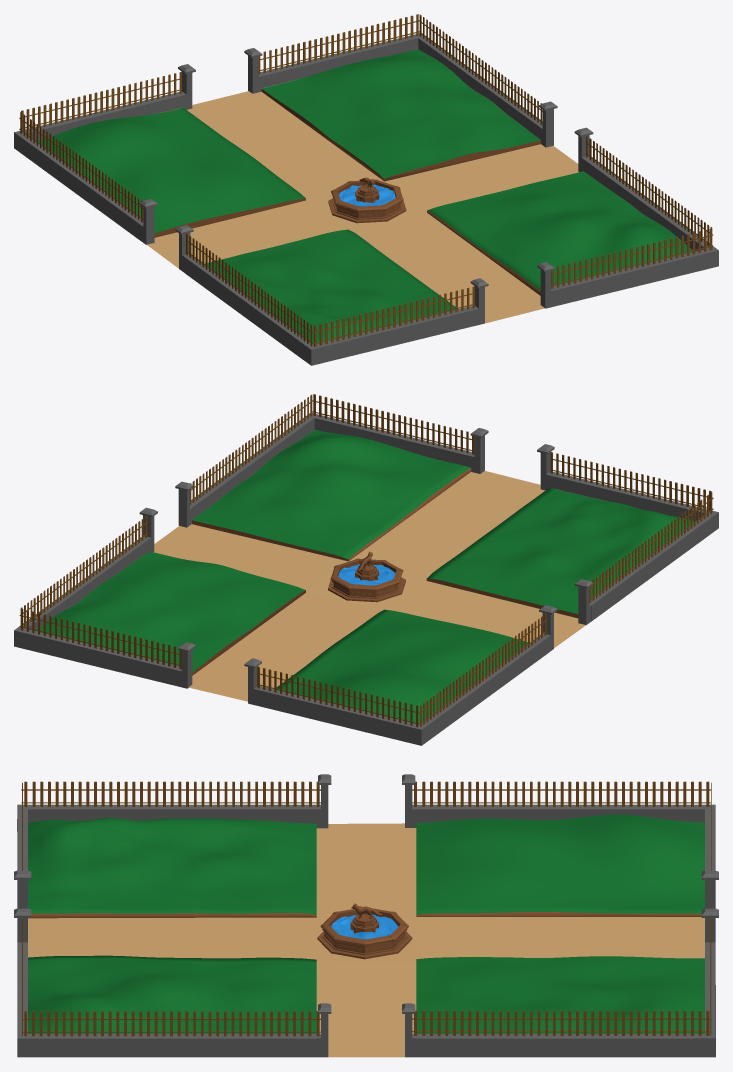
File: Parque.fbx
3 views of the same model, one above another, from view 1: azimuth 30°, elevation 25°; view 2: azimuth 150°, elevation 25°; view 3: azimuth 270°, elevation 25° (orthographic). The views are drawn at different scales.
Parts seen in each view (by area): view 1: terriccio, terriccio.001, MURO, prova.004, prova.003, prova2.004, prova.002, prova2, prova, prova2.003, prova2.002, fontana base parte superiore (+2 smaller); view 2: terriccio, terriccio.001, MURO, prova2, prova.004, prova.002, prova2.004, prova2.002, prova, prova2.003, prova.003, fontana base parte superiore (+2 smaller); view 3: terriccio, terriccio.001, MURO, prova2.002, prova2.004, prova2.003, prova2, fontana base parte superiore, fontana base, acqua.
Part boxes in pixels (bbox=[...]): terriccio: bbox=[38, 49, 692, 343]; terriccio.001: bbox=[147, 80, 578, 325]; MURO: bbox=[14, 33, 718, 365]; prova.004: bbox=[258, 14, 418, 74]; prova.003: bbox=[313, 286, 475, 346]; prova2.004: bbox=[185, 233, 313, 346]; prova.002: bbox=[551, 228, 712, 288]; prova2: bbox=[19, 112, 143, 222]; prova: bbox=[21, 71, 182, 132]; prova2.003: bbox=[419, 14, 542, 124]; prova2.002: bbox=[585, 135, 713, 246]; fontana base parte superiore: bbox=[331, 179, 403, 213]; terriccio: bbox=[37, 430, 693, 723]; terriccio.001: bbox=[153, 471, 585, 701]; MURO: bbox=[14, 413, 718, 745]; prova2: bbox=[419, 614, 547, 726]; prova.004: bbox=[20, 608, 181, 669]; prova.002: bbox=[312, 394, 474, 454]; prova2.004: bbox=[589, 492, 713, 602]; prova2.002: bbox=[190, 394, 312, 504]; prova: bbox=[257, 666, 419, 727]; prova2.003: bbox=[19, 516, 147, 628]; prova.003: bbox=[550, 452, 711, 512]; fontana base parte superiore: bbox=[330, 558, 403, 592]; terriccio: bbox=[28, 814, 704, 1033]; terriccio.001: bbox=[28, 823, 704, 1057]; MURO: bbox=[14, 774, 718, 1057]; prova2.002: bbox=[22, 1011, 320, 1036]; prova2.004: bbox=[21, 781, 320, 806]; prova2.003: bbox=[412, 1010, 711, 1035]; prova2: bbox=[412, 781, 710, 806]; fontana base parte superiore: bbox=[320, 906, 408, 947]; fontana base: bbox=[317, 931, 412, 959]; acqua: bbox=[331, 914, 398, 939].
Bounding box in the file's own units: 5265 × 514 × 6636.
Materials: 3 (2 with a texture image).
